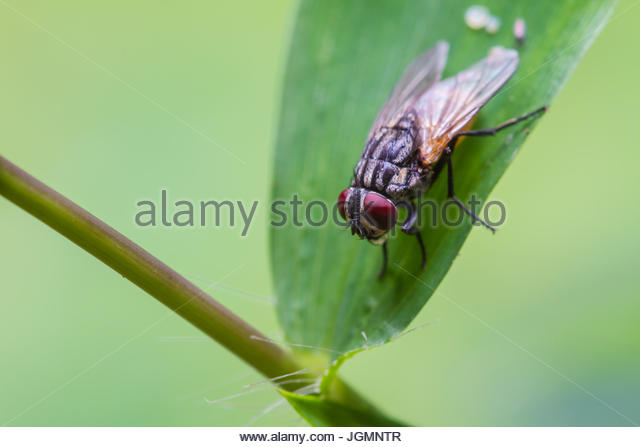green bottles flies: (321, 34, 559, 269)
